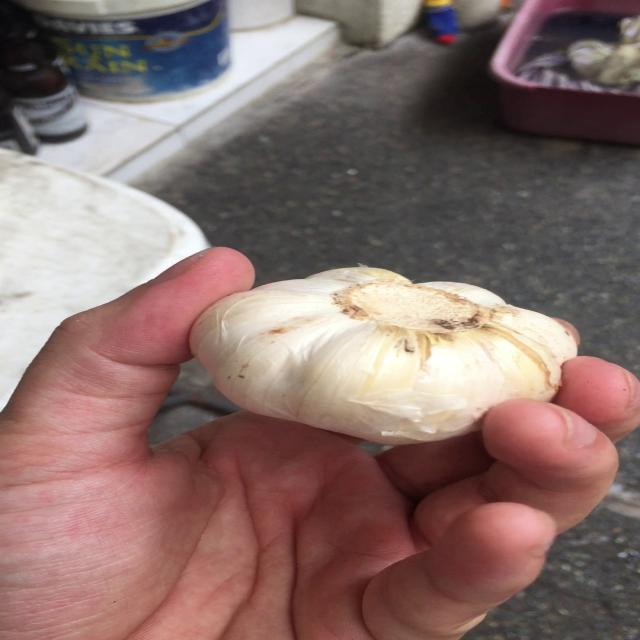garlic: (188, 260, 582, 448)
